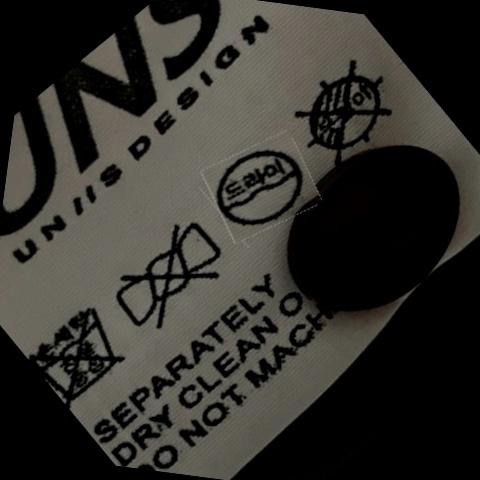DN_dry: (293, 61, 395, 165)
DN_wring: (111, 221, 227, 336)
dry_clean: (215, 140, 307, 236)
hand_wash: (32, 297, 129, 403)
